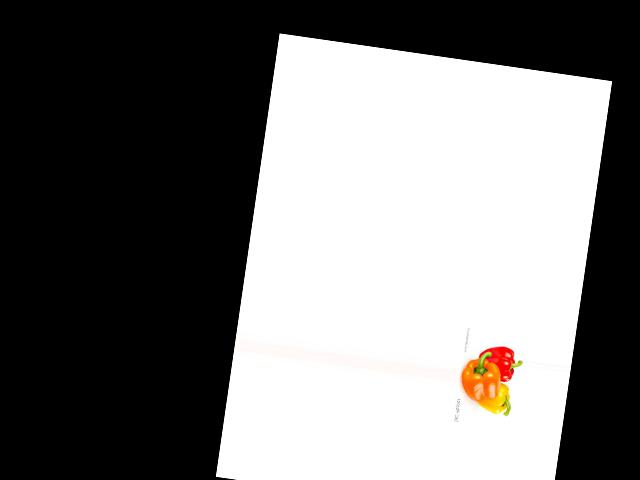bell_pepper: (474, 378, 516, 418)
